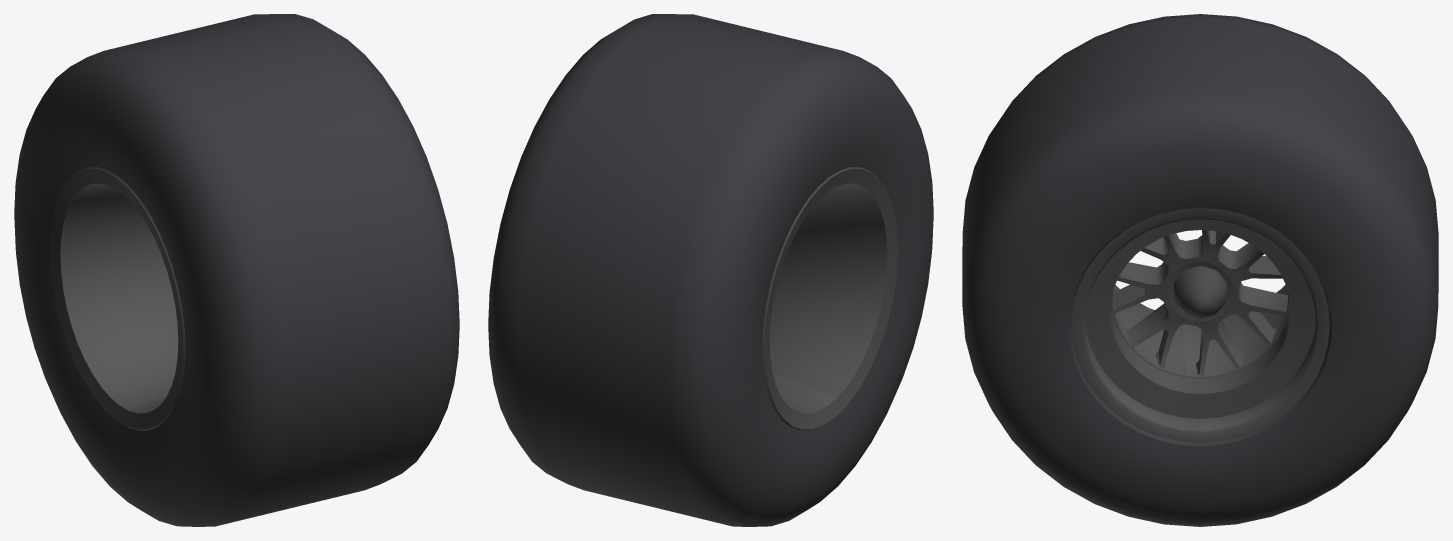
The model's file is LeftRearWheel.obj.
3 views of the same model, side by side, from view 1: azimuth 30°, elevation 25°; view 2: azimuth 150°, elevation 25°; view 3: azimuth 270°, elevation 25° (orthographic). The views are drawn at different scales.
Visible parts, largest first — view 1: object__50, object__49, object__19; view 2: object__50, object__49, object__19; view 3: object__49, object__50, object__19.
Boxes of the visible parts, <box> form: object__50: <box>37,14,459,526</box>; object__49: <box>14,75,240,517</box>; object__19: <box>49,167,185,430</box>; object__50: <box>488,14,910,526</box>; object__49: <box>707,75,933,517</box>; object__19: <box>762,167,897,430</box>; object__49: <box>981,125,1418,521</box>; object__50: <box>962,14,1438,526</box>; object__19: <box>1071,208,1329,442</box>.
Bounding box in the file's own units: 0.3728 × 0.6438 × 0.6438.
